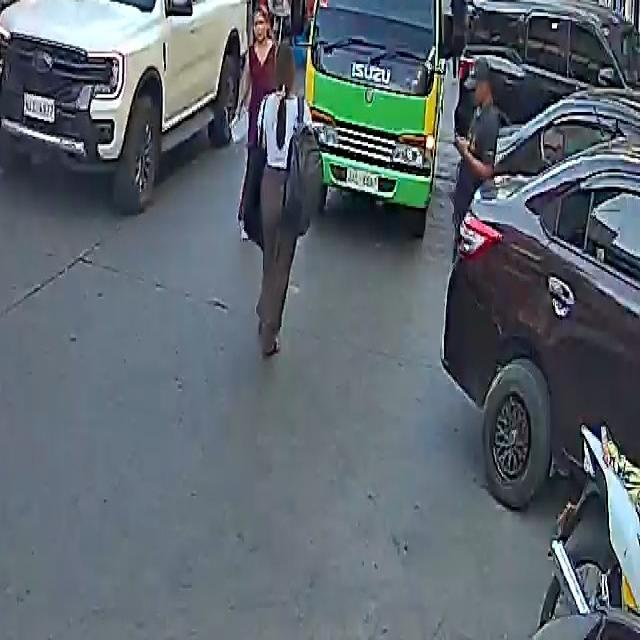car: (443, 82, 640, 524), (0, 0, 254, 210), (452, 0, 640, 178)
